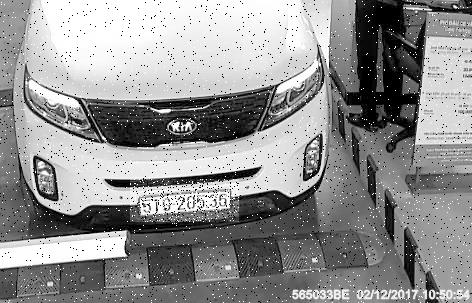License-plate: (131, 180, 240, 223)
